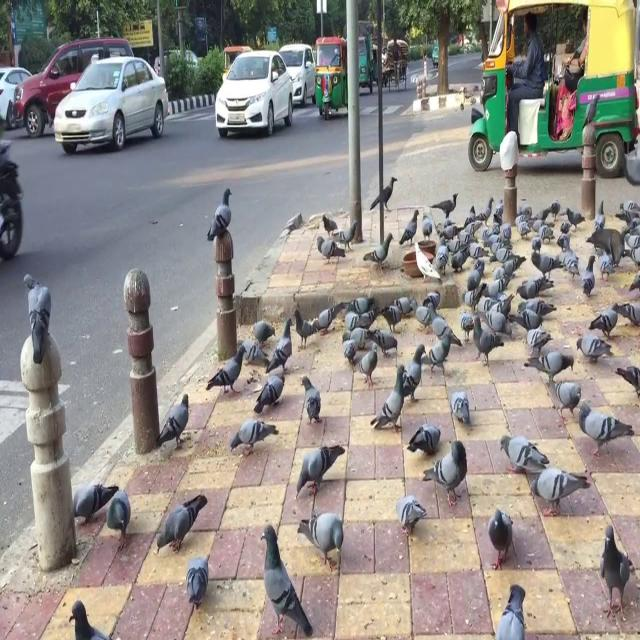bird: (256, 519, 312, 640), (17, 263, 58, 370), (153, 486, 209, 563), (594, 520, 634, 618), (291, 440, 347, 506), (528, 464, 587, 525), (58, 471, 118, 528), (298, 505, 347, 574), (576, 400, 630, 460), (227, 414, 281, 470), (422, 440, 468, 502), (156, 388, 196, 458), (208, 341, 250, 401), (182, 545, 216, 616), (65, 594, 116, 640), (485, 509, 520, 571), (497, 437, 549, 478), (204, 183, 237, 247), (380, 361, 410, 427), (106, 486, 136, 551), (393, 492, 425, 550), (402, 416, 444, 460), (428, 323, 461, 375), (237, 329, 273, 372), (271, 316, 297, 374), (474, 314, 505, 362), (313, 299, 345, 345), (257, 368, 291, 411), (362, 230, 396, 273), (291, 308, 323, 351), (533, 348, 575, 380), (405, 339, 425, 404), (528, 247, 562, 284), (300, 371, 322, 428), (590, 301, 624, 336), (376, 301, 410, 336), (314, 231, 346, 268), (573, 334, 609, 366), (358, 340, 380, 392), (554, 382, 582, 421), (402, 201, 422, 250), (449, 389, 474, 427), (580, 253, 600, 298), (588, 198, 608, 243), (514, 281, 552, 304), (524, 326, 552, 353), (252, 318, 278, 344), (565, 204, 587, 233), (339, 220, 360, 249), (321, 212, 339, 240)
